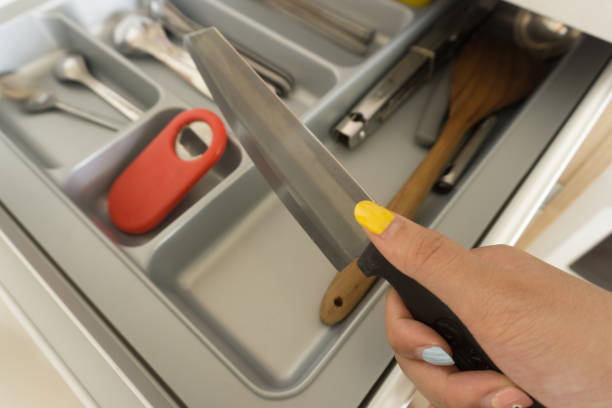knife: (184, 26, 503, 372)
